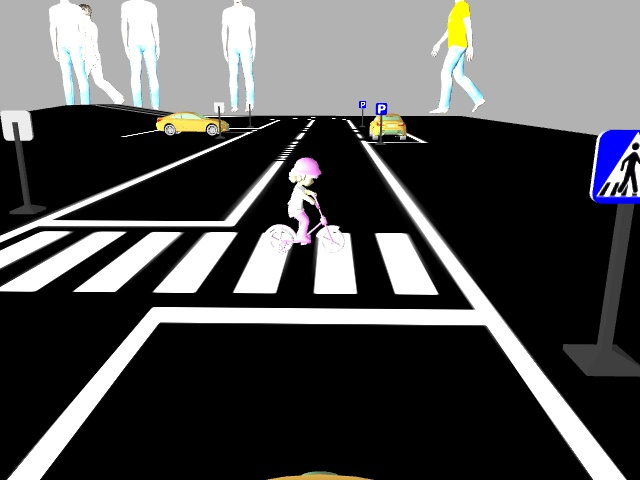Parking: (374, 100, 388, 114), (356, 99, 367, 109)
Pedestrian: (263, 156, 347, 254)
